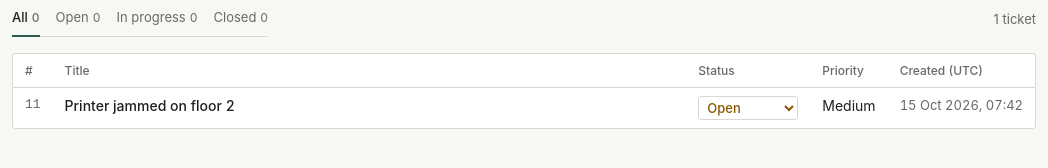
ticket status control › reverts and explains when the update fails
Select "Closed" in the dropdown named "Status for ticket #11" at (748, 108), box [698, 96, 798, 120]
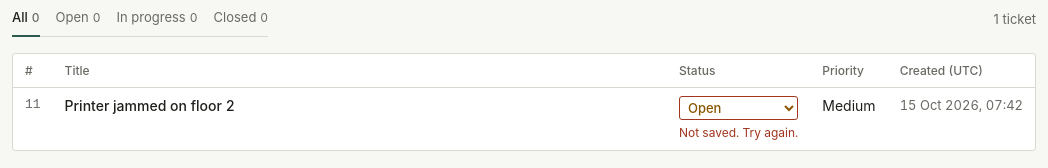
Expected: the message reads "Not saved. Try again.", [679, 125, 798, 140]
